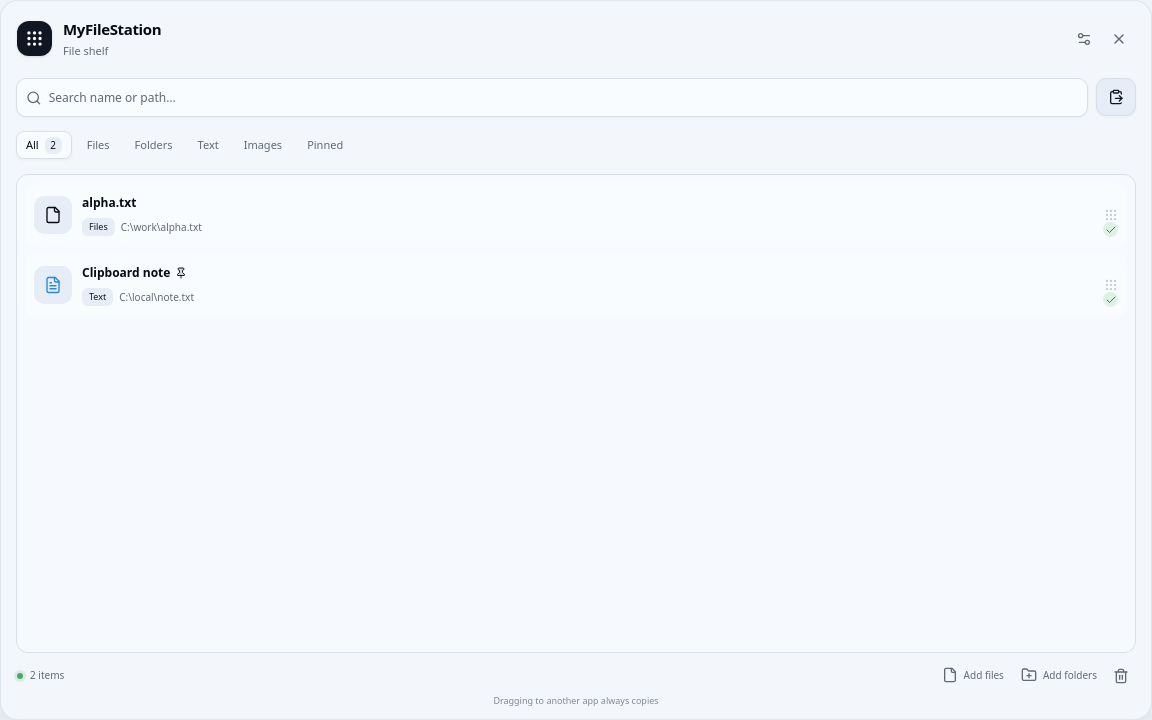
Test: shelf interactions › filters names and paths, and clears selection when the filter changes
Expected: the text "alpha.txt" is shown, [82,194,136,212]
Press a
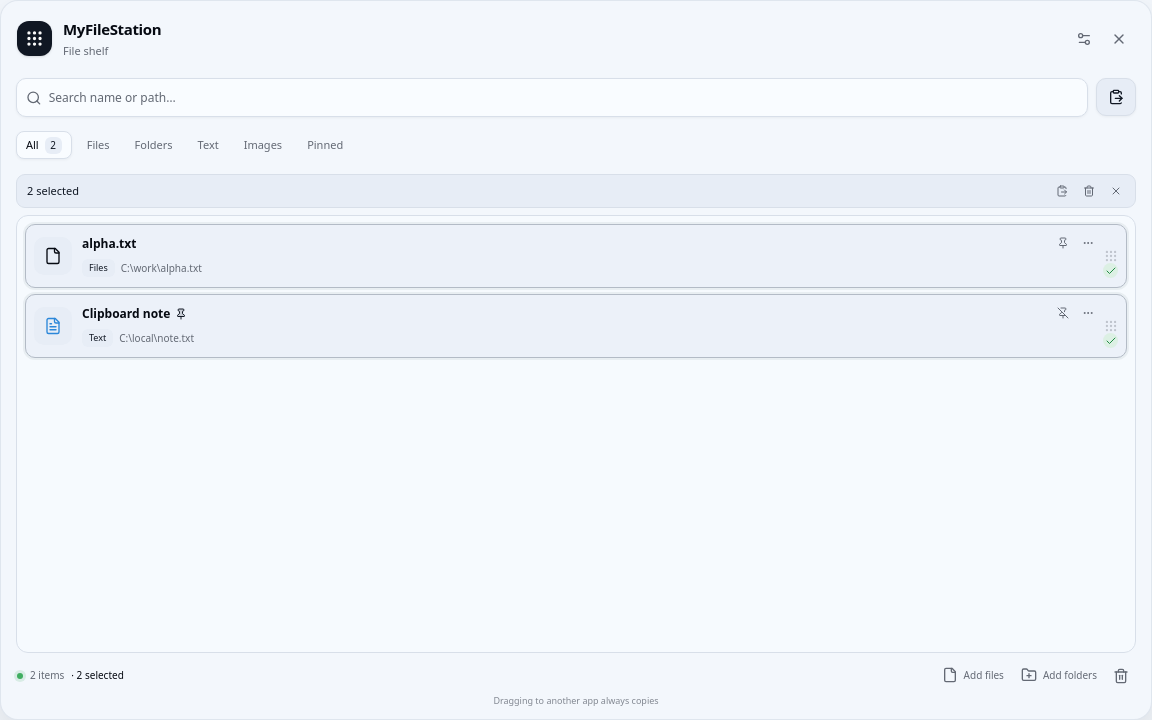
Expected: the text "2 selected" is shown, [27,183,79,199]
Type "note" into the field labelled "Search name or path…" at (563, 98), box [49,79,1078,116]
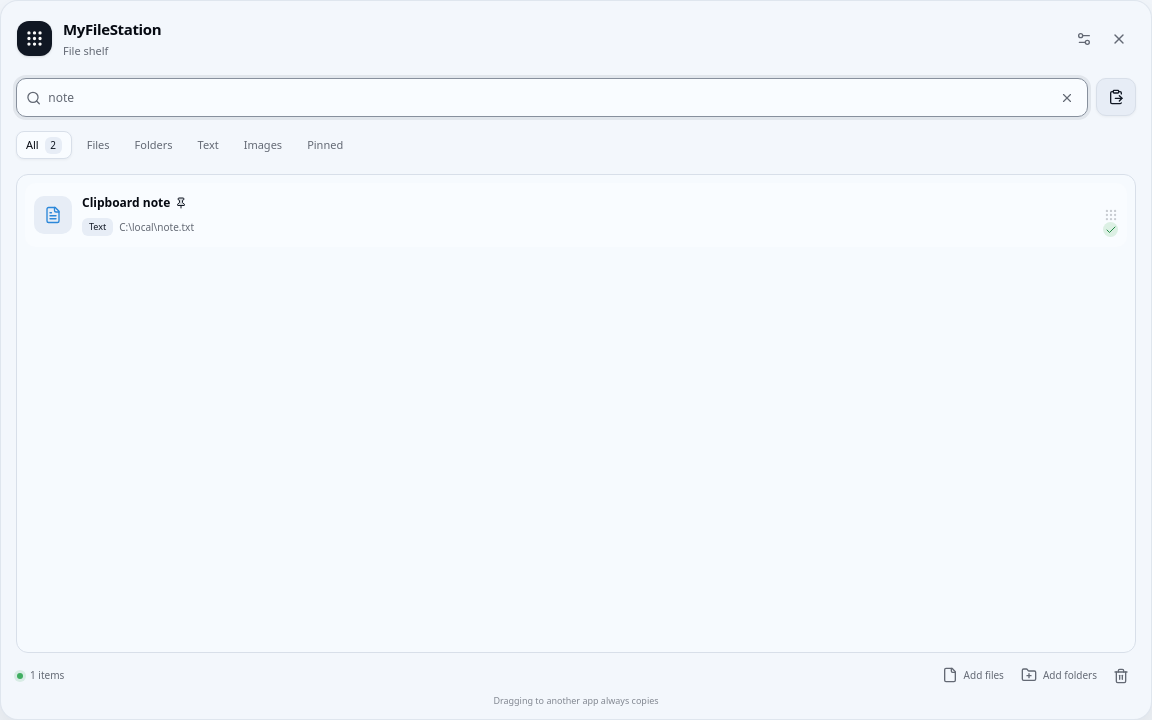
Expected: the text "Clipboard note" is shown, [82,194,170,212]
Expected: the text "2 selected" is gone
Expected: the option "alpha.txt" is gone
